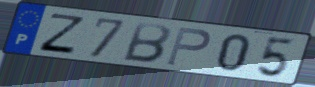0: (214, 33, 254, 73)
5: (254, 35, 299, 79)
7: (91, 16, 128, 60)
B: (120, 21, 173, 65)
P: (164, 25, 213, 68)
Z: (36, 12, 87, 56)
